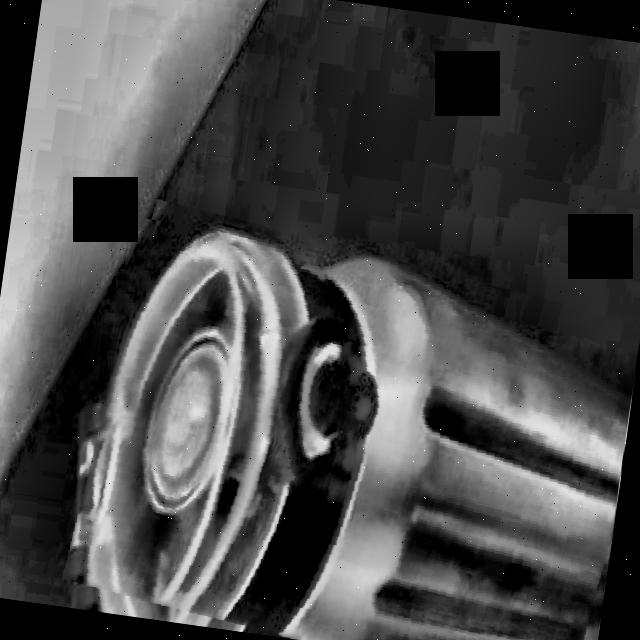bottle: (88, 233, 632, 640)
